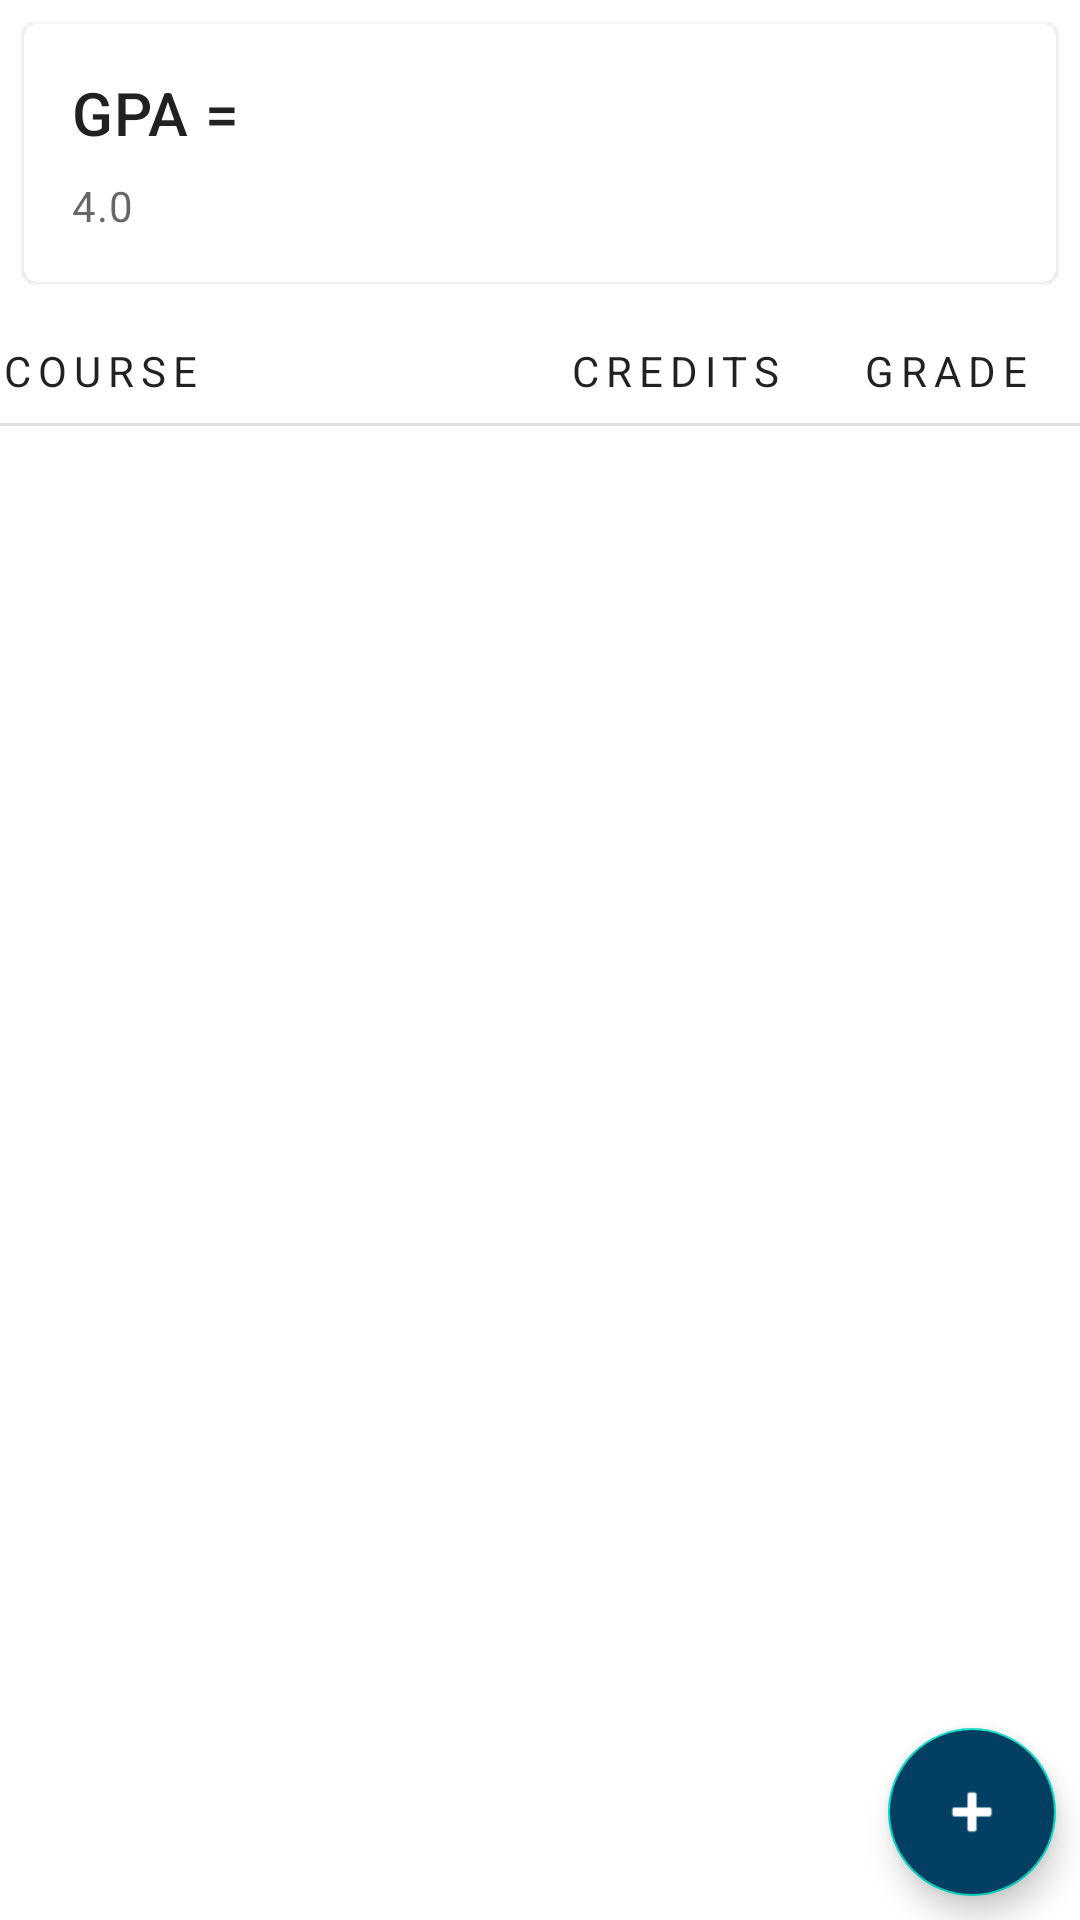

Icon click points for this 1080 x 1920 phone screenshot, format (x,y):
Add new item: (972,1812)
